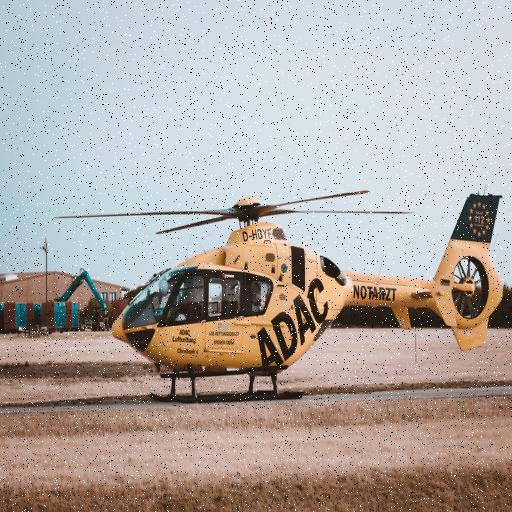helicopter: (54, 189, 505, 404)
